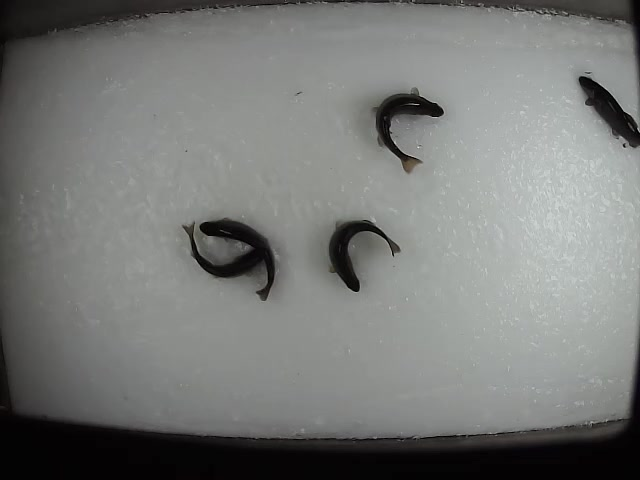fish: (368, 83, 446, 174), (200, 214, 277, 303), (179, 216, 272, 280), (328, 217, 404, 292), (579, 73, 640, 151)
